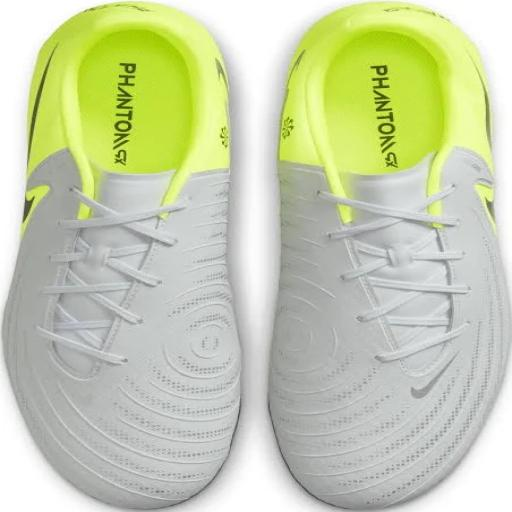shoe: (270, 2, 510, 509), (4, 2, 240, 509)
